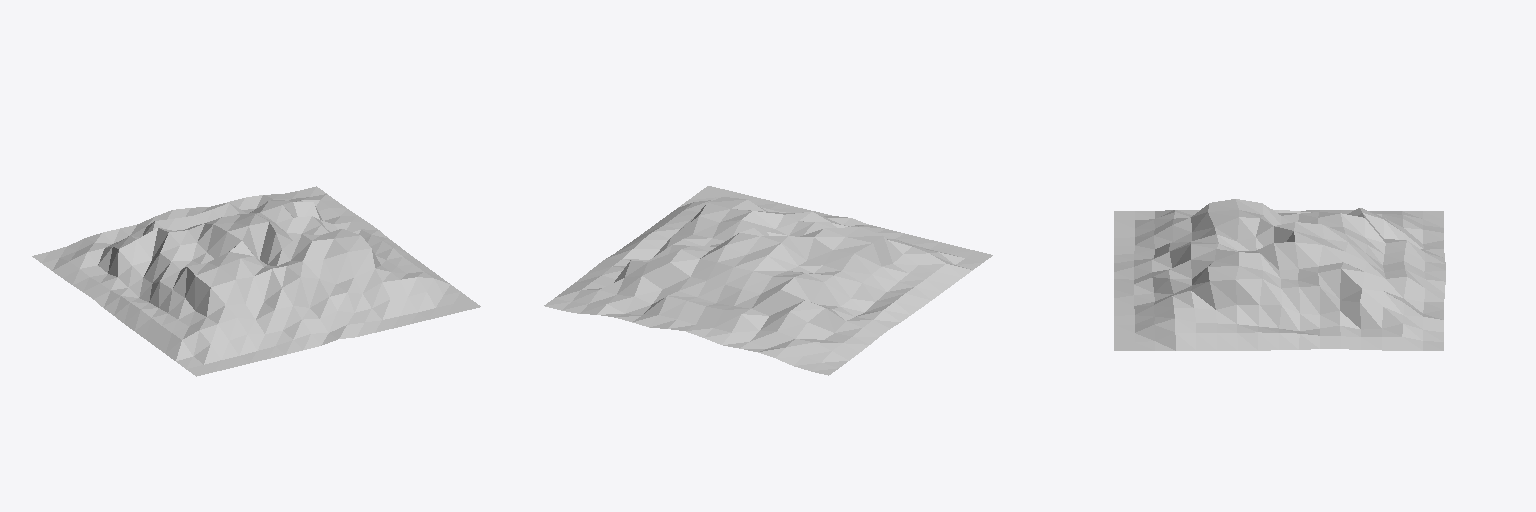
The model's file is field.obj.
3 views of the same model, side by side, from view 1: azimuth 30°, elevation 25°; view 2: azimuth 150°, elevation 25°; view 3: azimuth 270°, elevation 25° (orthographic).
Parts seen in each view (by area): view 1: Plane.001; view 2: Plane.001; view 3: Plane.001.
Part boxes in pixels (x1,y1,x2,y2): Plane.001: (32,186,480,376); Plane.001: (544,186,992,375); Plane.001: (1114,199,1445,350).
Bounding box in the file's own units: 9.57 × 1.61 × 9.63.